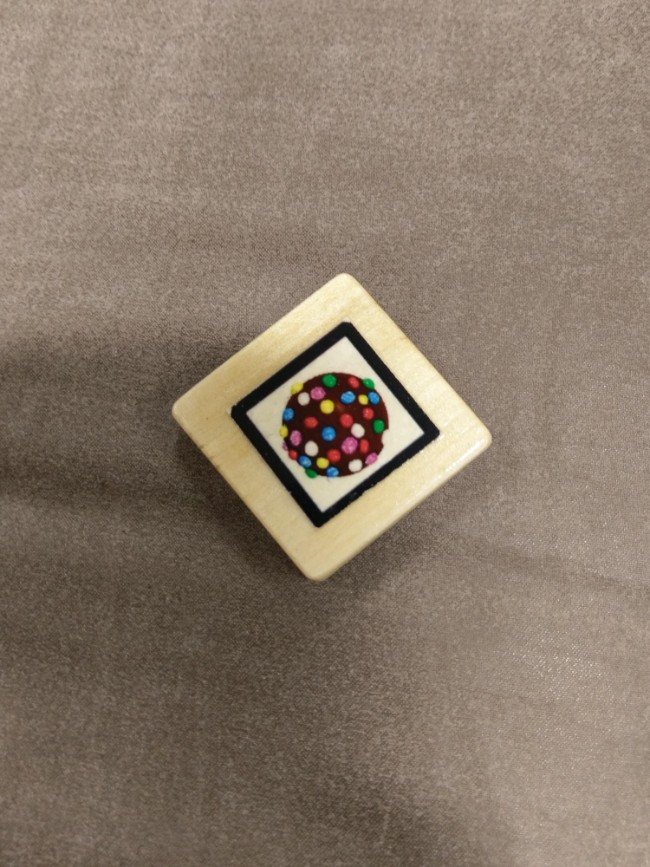cookie: (245, 334, 425, 513)
